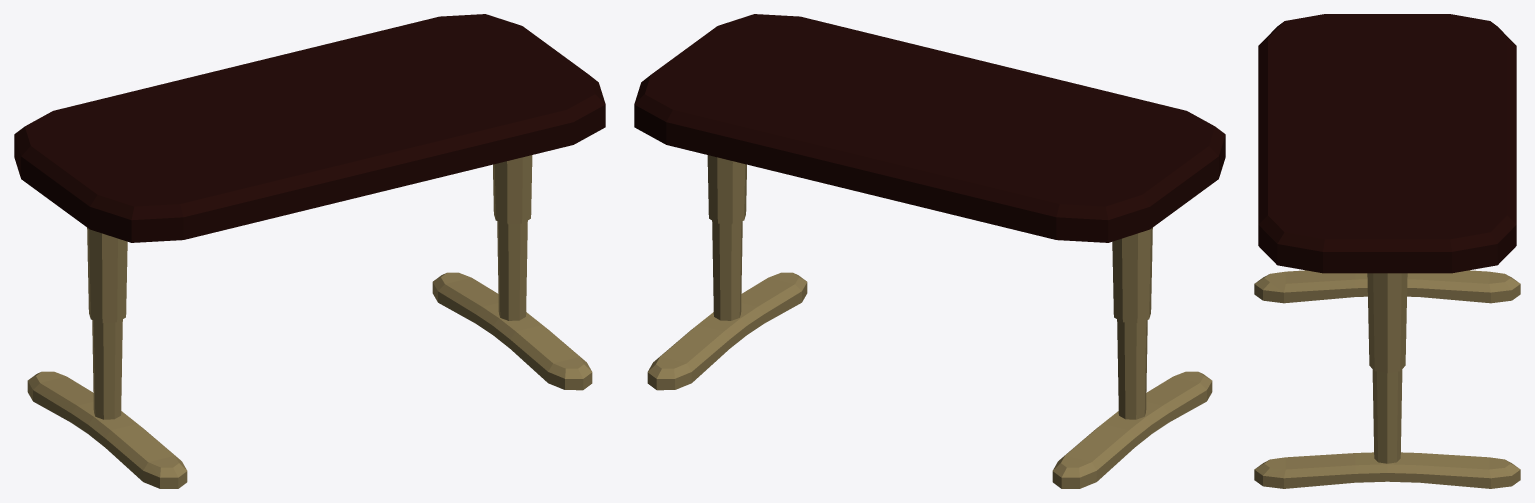
Rendered from mesh_table_a_01.glb.
3 renders of one model, left to right at view 1: azimuth 30°, elevation 25°; view 2: azimuth 150°, elevation 25°; view 3: azimuth 270°, elevation 25°, orthographic. The views are drawn at different scales.
Bounding box in the file's own units: 0.512 × 0.2666 × 0.247.
2 materials, 2 textured.
